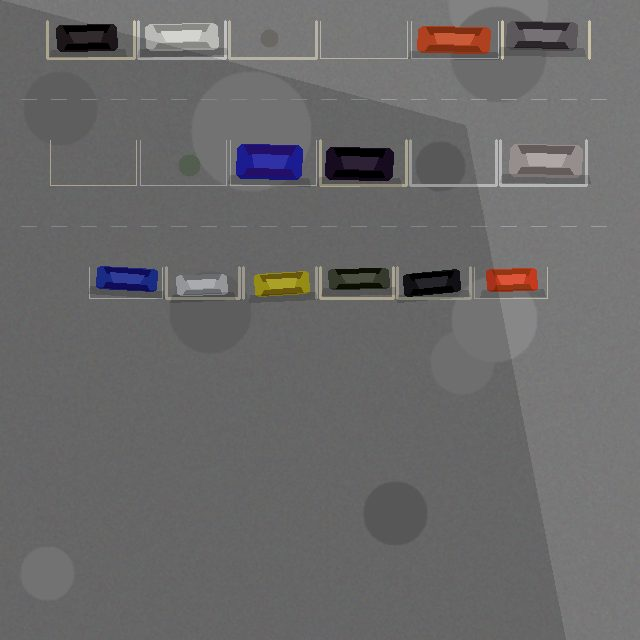space-empty: (50, 140, 136, 185), (140, 140, 226, 185), (410, 140, 496, 185), (229, 21, 316, 58), (320, 21, 407, 58)
space-occupied: (230, 140, 316, 185), (320, 140, 406, 185), (500, 140, 586, 185), (47, 21, 134, 58), (138, 21, 225, 58), (411, 21, 498, 58), (502, 21, 589, 58), (89, 267, 162, 298), (166, 267, 239, 298), (243, 267, 316, 298), (320, 267, 393, 298), (397, 267, 470, 298), (474, 267, 547, 298)
